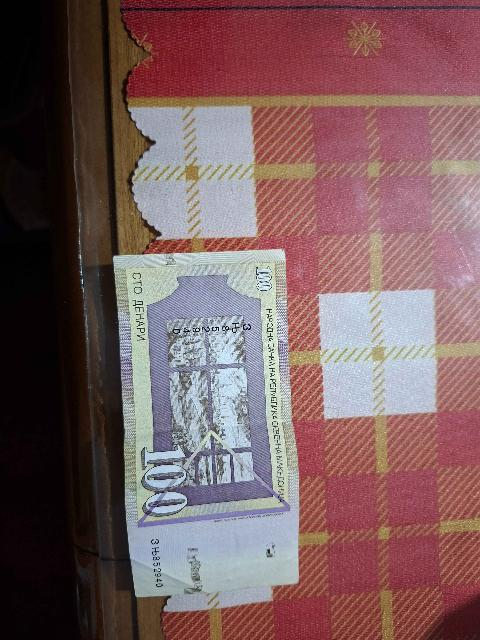100_note: (114, 251, 298, 596)
